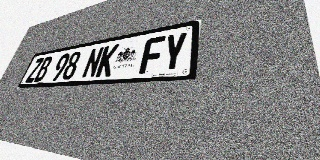8: (60, 51, 83, 80)
9: (50, 53, 71, 81)
B: (33, 56, 54, 82)
F: (139, 35, 166, 74)
K: (95, 44, 119, 77)
N: (81, 47, 104, 78)
Y: (160, 31, 188, 72)
Z: (25, 58, 44, 83)
